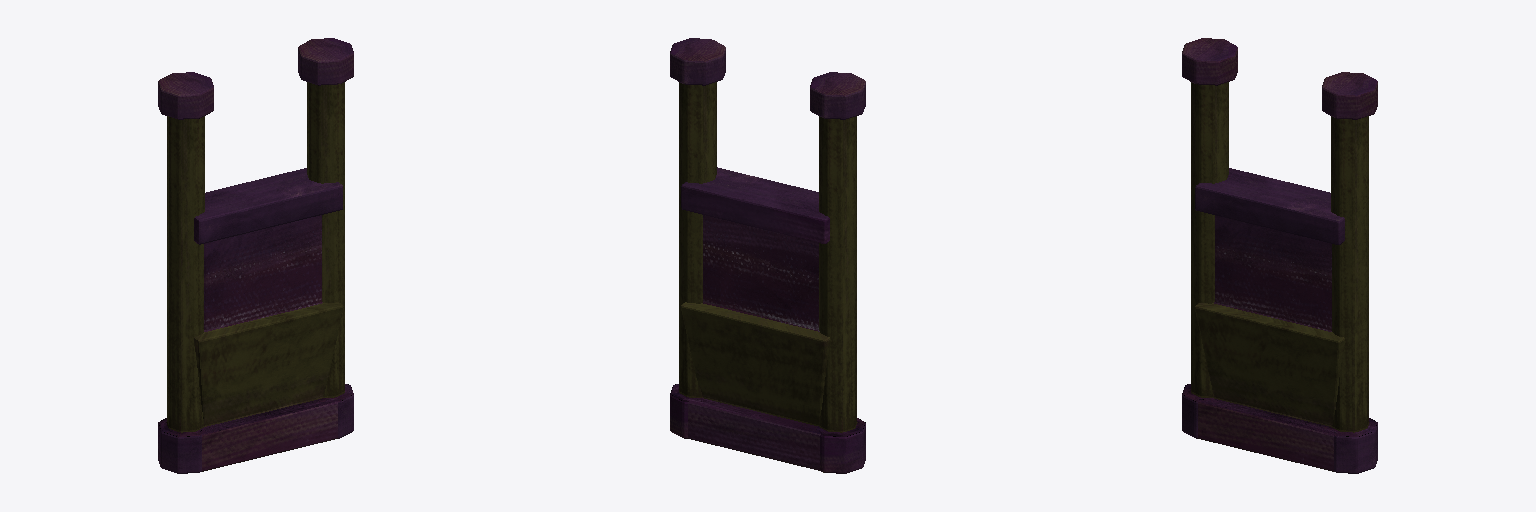
3 views of the same model, side by side, from view 1: azimuth 30°, elevation 25°; view 2: azimuth 150°, elevation 25°; view 3: azimuth 330°, elevation 25° (orthographic).
Parts seen in each view (by area): view 1: MANOR_WALL_1_2.002; view 2: MANOR_WALL_1_2.002; view 3: MANOR_WALL_1_2.002.
Boxes of the visible parts, <box> form: MANOR_WALL_1_2.002: <box>158,38,353,473</box>; MANOR_WALL_1_2.002: <box>670,38,865,473</box>; MANOR_WALL_1_2.002: <box>1182,38,1377,473</box>.
Size of the model in its own units: 1.57 by 3 by 0.4139.
2 materials, 2 textured.